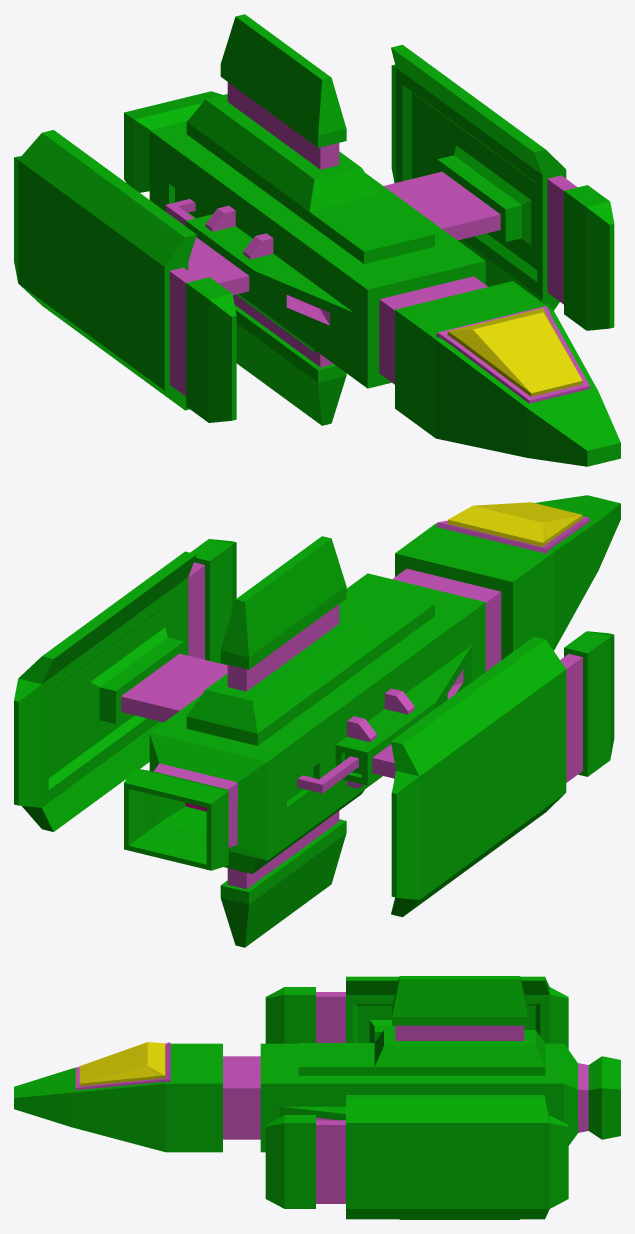
The model's file is MainShipV2.fbx.
The picture shows the model from 3 angles, top to bottom: view 1: azimuth 30°, elevation 25°; view 2: azimuth 150°, elevation 25°; view 3: azimuth 270°, elevation 25°; orthographic projection. The views are drawn at different scales.
Visible parts, largest first — view 1: Fighter_1; view 2: Fighter_1; view 3: Fighter_1.
Boxes of the visible parts, bbox=[...] form: Fighter_1: bbox=[14, 14, 620, 466]; Fighter_1: bbox=[14, 495, 620, 947]; Fighter_1: bbox=[14, 976, 620, 1219].
Size of the model in its own units: 34 by 28 by 64.04.
